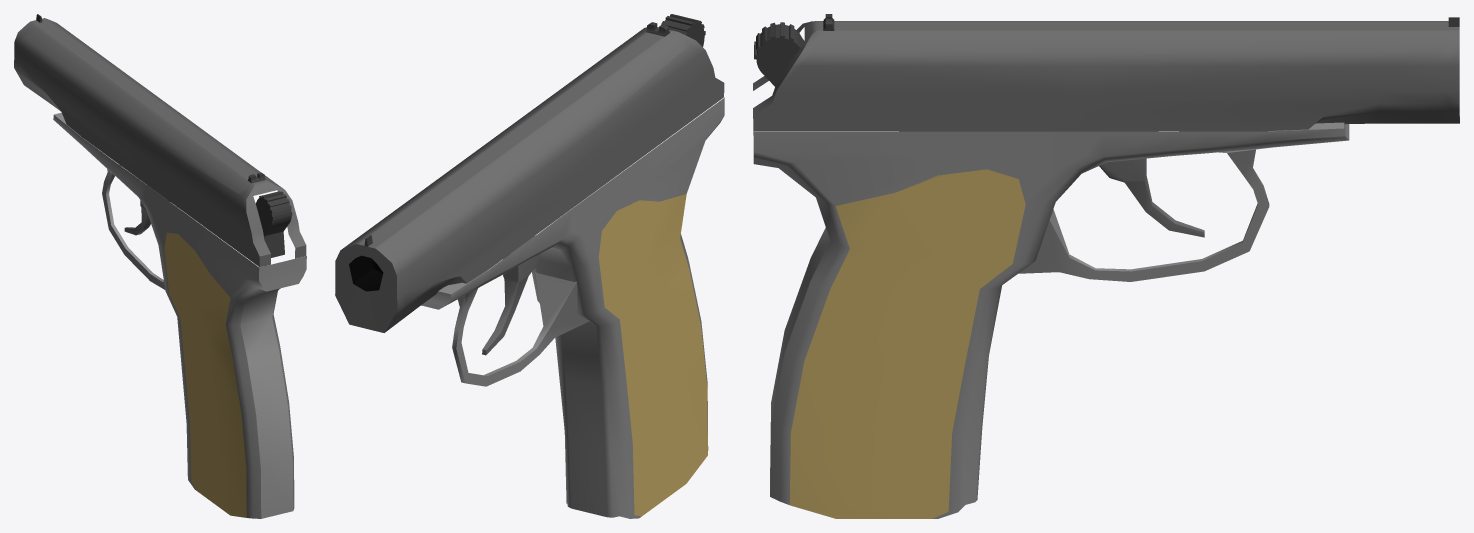
Rendered from wpn_pistol.glb.
The picture shows the model from 3 angles, left to right: view 1: azimuth 30°, elevation 25°; view 2: azimuth 150°, elevation 25°; view 3: azimuth 270°, elevation 25°; orthographic projection. The views are drawn at different scales.
Visible parts, largest first — view 1: wpn_pistol; view 2: wpn_pistol; view 3: wpn_pistol.
Boxes of the visible parts, x1,y1,x2,y2 form: wpn_pistol: [14, 14, 306, 518]; wpn_pistol: [335, 14, 724, 518]; wpn_pistol: [753, 14, 1459, 518].
Size of the model in its own units: 0.0246 by 0.1664 by 0.22.
Materials: 1 (1 with a texture image).
